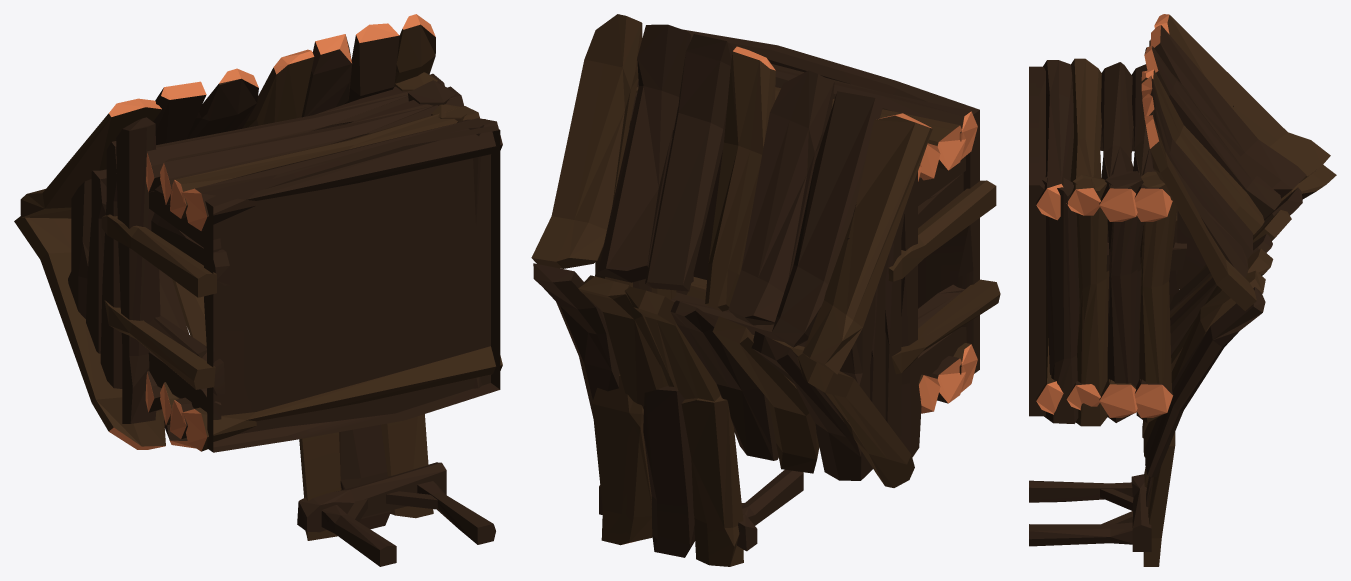
Rendered from House_01.FBX.
The picture shows the model from 3 angles, left to right: view 1: azimuth 30°, elevation 25°; view 2: azimuth 150°, elevation 25°; view 3: azimuth 270°, elevation 25°; orthographic projection. The views are drawn at different scales.
Visible parts, largest first — view 1: House_01; view 2: House_01; view 3: House_01.
Part boxes in pixels (bbox=[...]): House_01: bbox=[14, 14, 502, 566]; House_01: bbox=[531, 14, 1000, 566]; House_01: bbox=[1029, 14, 1336, 566].
Bounding box in the file's own units: 4.95 × 7.21 × 4.52.
